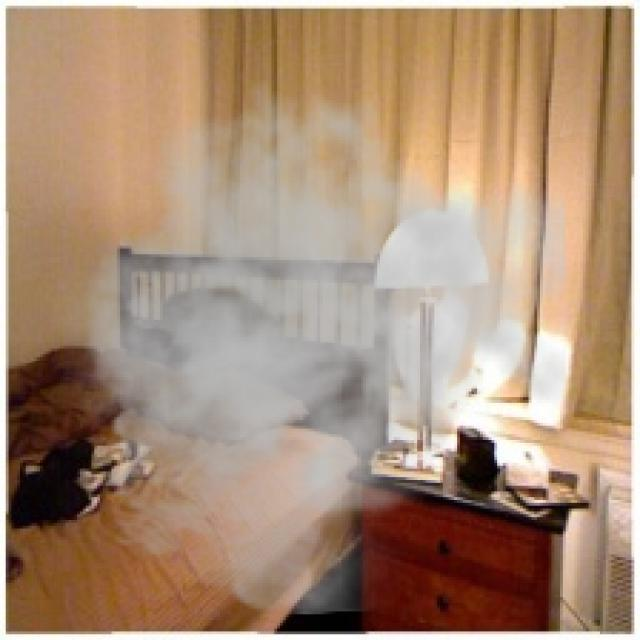Smoke: (34, 77, 566, 617)
